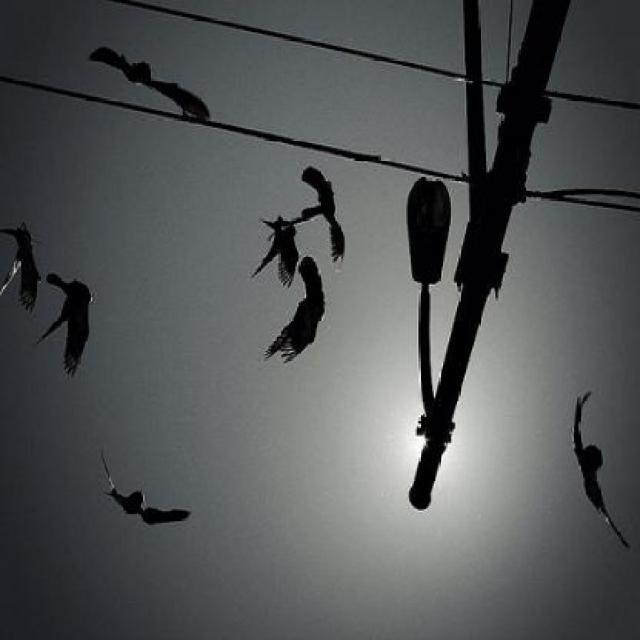pole: (400, 0, 554, 520)
